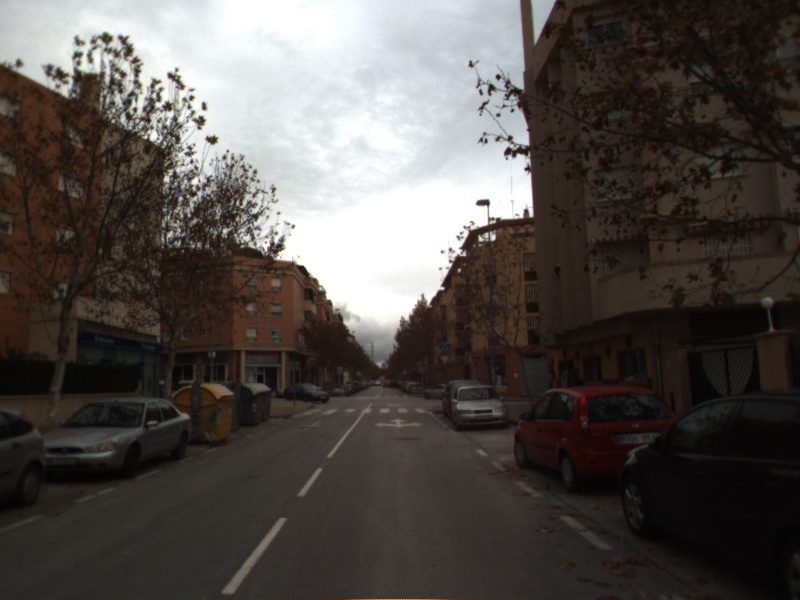STRAIGHT_LEFT_RIGHT: (372, 415, 426, 430)
